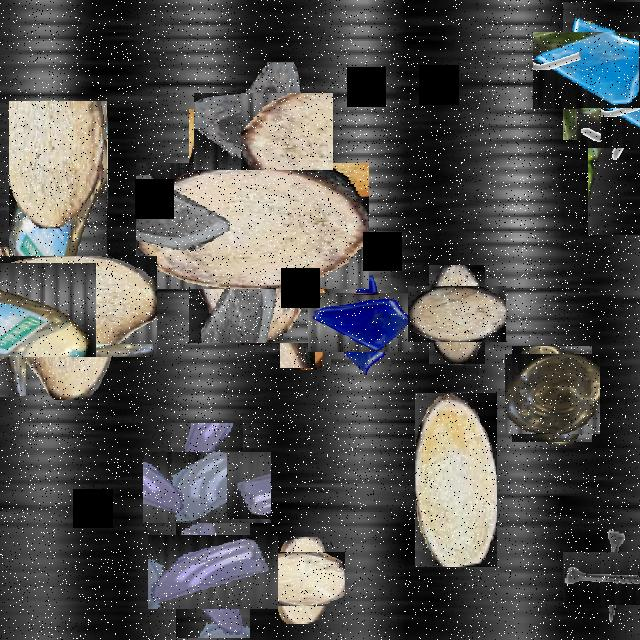glass: (210, 77, 318, 186), (162, 521, 264, 624), (157, 437, 257, 537), (547, 17, 640, 124), (320, 280, 402, 364)
metal: (574, 539, 640, 616), (584, 100, 640, 156), (593, 366, 631, 434)
plastic: (9, 102, 107, 340), (588, 21, 640, 235), (508, 351, 596, 438), (0, 278, 57, 365)
wood: (162, 136, 342, 316), (0, 233, 135, 378), (415, 393, 497, 567), (418, 276, 496, 353), (268, 545, 338, 614), (280, 276, 332, 368)
